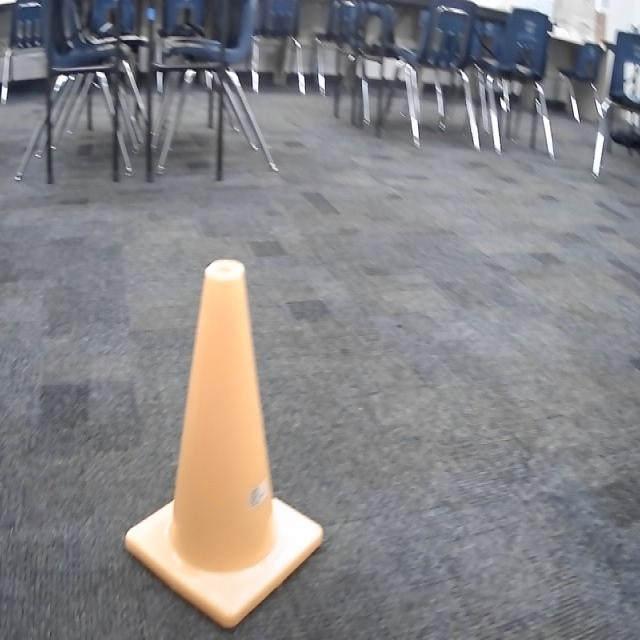cone: (125, 255, 326, 633)
